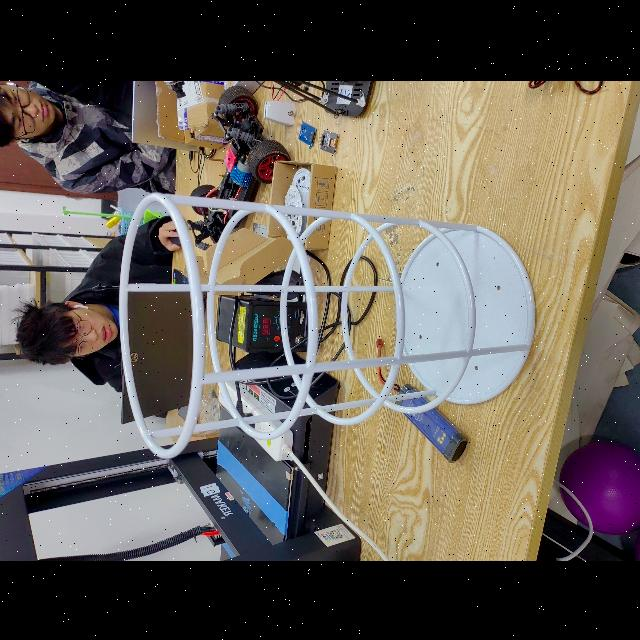S: (108, 185, 540, 457)
